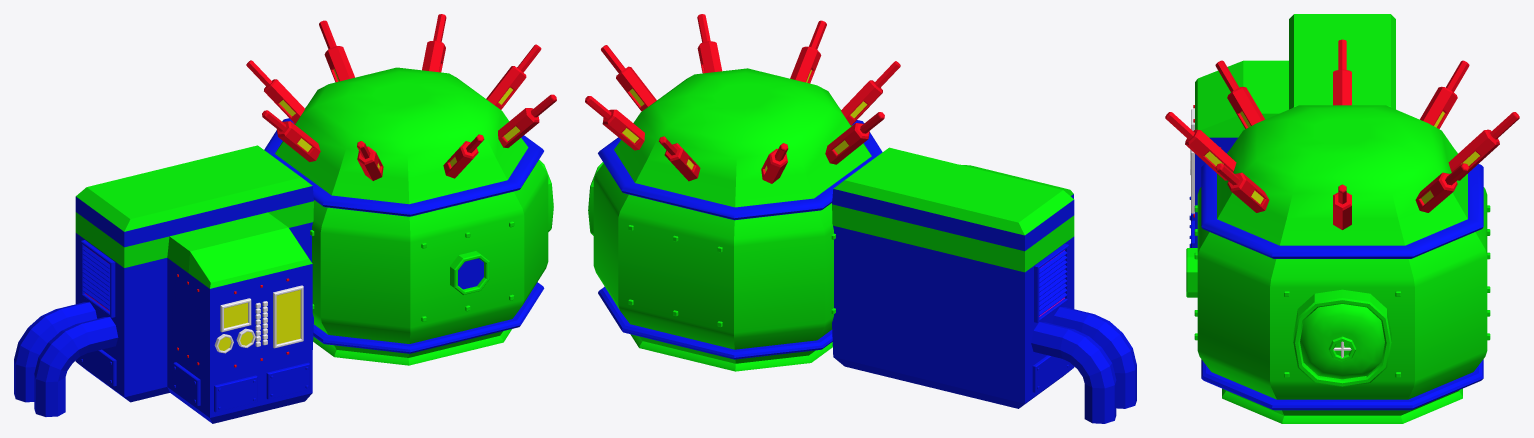
The model's file is Coolant_Exhaust.fbx.
3 renders of one model, left to right at view 1: azimuth 30°, elevation 25°; view 2: azimuth 150°, elevation 25°; view 3: azimuth 270°, elevation 25°, orthographic. The views are drawn at different scales.
Parts seen in each view (by area): view 1: coolant_exhasust_machine_poly; view 2: coolant_exhasust_machine_poly; view 3: coolant_exhasust_machine_poly.
Boxes of the visible parts, x1=… form: coolant_exhasust_machine_poly: x1=14, y1=14, x2=556, y2=423; coolant_exhasust_machine_poly: x1=585, y1=14, x2=1136, y2=423; coolant_exhasust_machine_poly: x1=1165, y1=14, x2=1519, y2=423.
Size of the model in its own units: 593 by 259 by 318.
